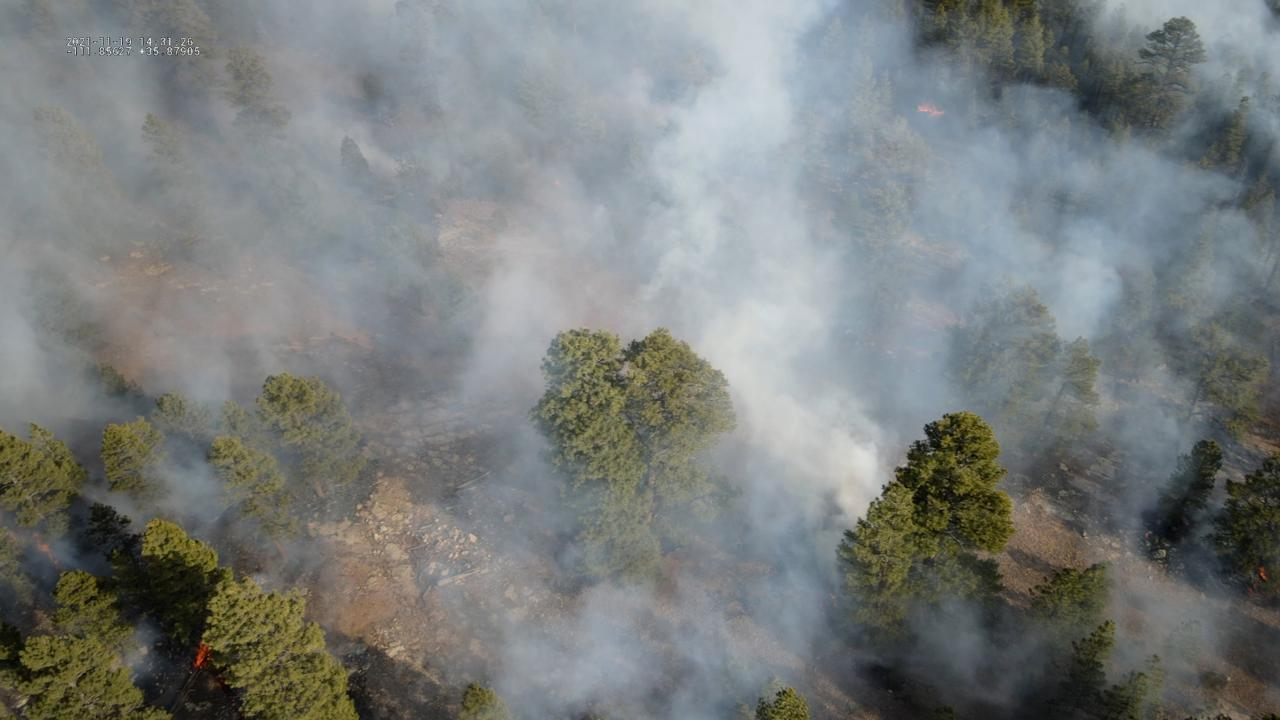fire: (191, 640, 214, 673), (35, 541, 59, 568), (913, 102, 946, 119), (1257, 565, 1270, 583)
smoke: (0, 0, 1280, 720)
